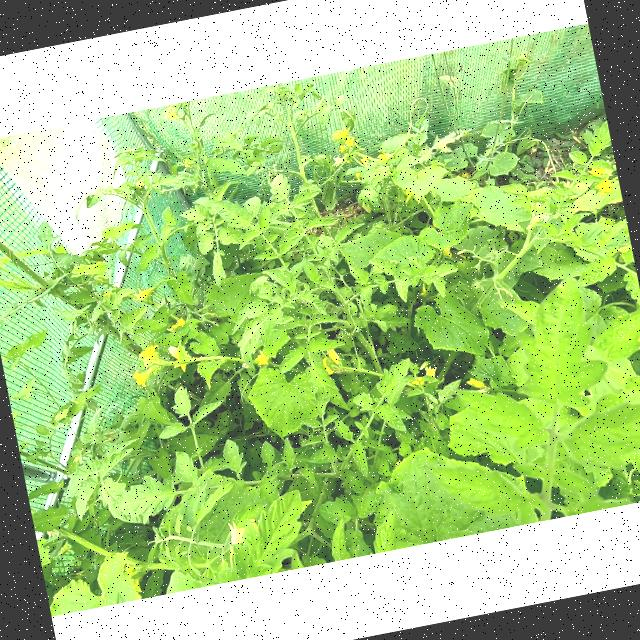Flowers: (166, 339, 198, 373), (227, 520, 260, 547), (318, 345, 344, 376), (410, 364, 441, 388), (138, 344, 162, 364), (132, 286, 154, 304), (161, 104, 181, 122), (255, 350, 274, 368), (467, 374, 487, 391), (332, 154, 354, 168), (598, 178, 614, 196), (132, 372, 148, 389), (332, 130, 348, 146), (344, 134, 358, 152), (378, 154, 394, 164)
